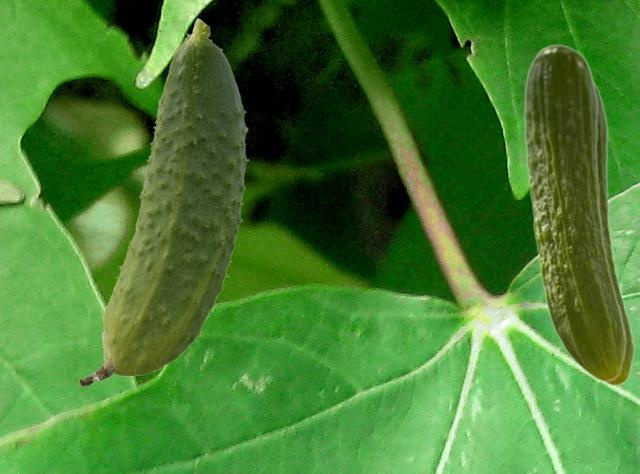cucumber: (79, 18, 248, 385), (523, 43, 626, 382), (595, 82, 634, 386)
